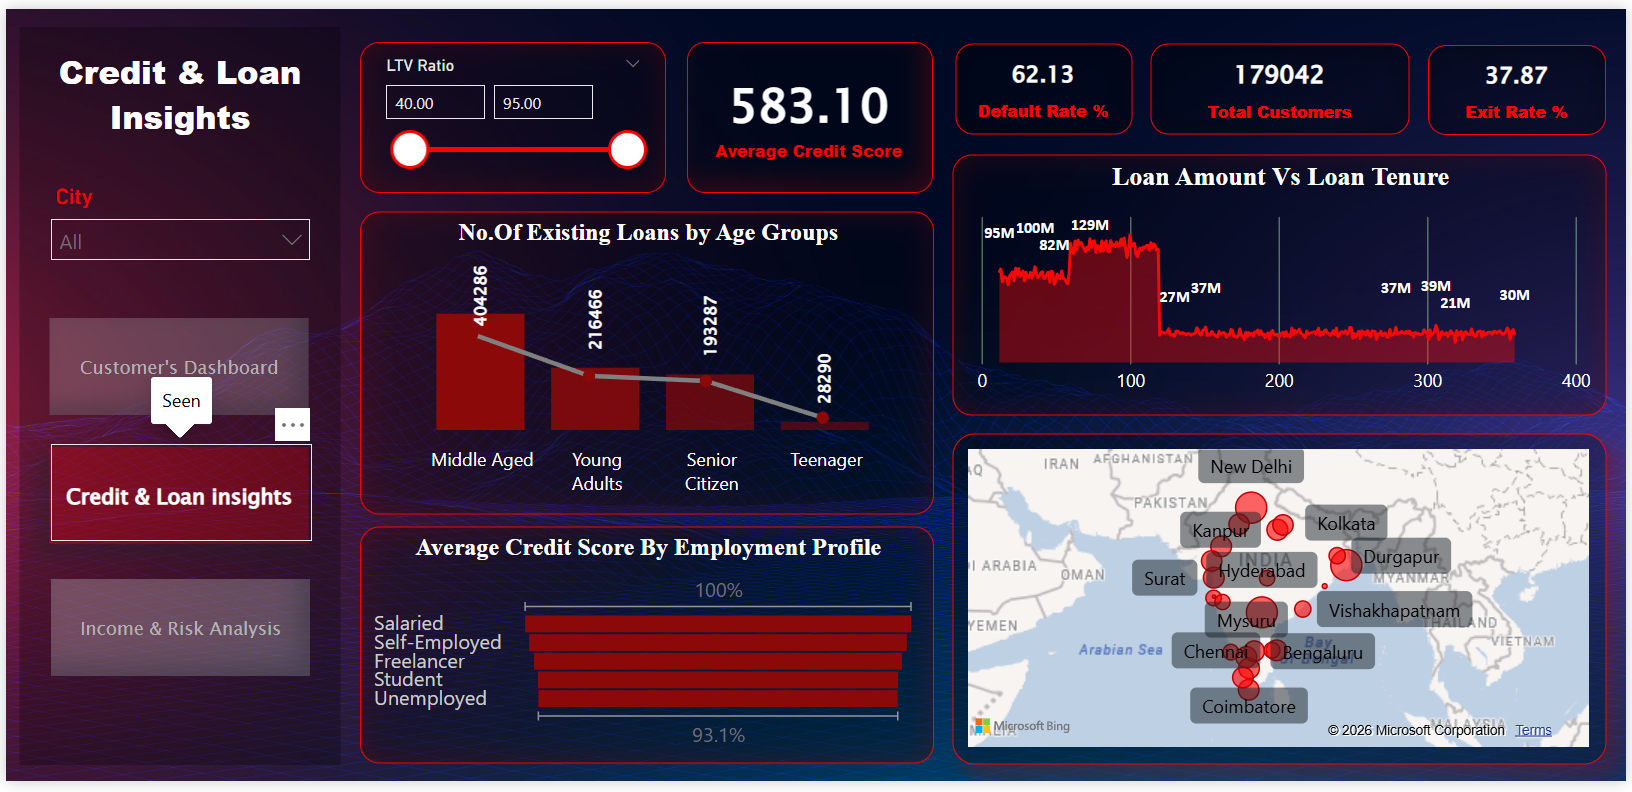

What the dashboard file says about the page in this screenshot:
{"tool":"powerbi","page":{"name":"Credit & Loan","canvas":[1080,515],"ordinal":1},"visuals":[{"type":"shape","box":[8.7,12,214.6,492.4],"z":0},{"type":"textbox","box":[19.6,21.8,192.8,74.1],"z":1000},{"type":"funnel","title":"Average Credit Score By Employment Profile","fields":{"Category":["credit_data.Employment Profile"],"Y":["Avg(Credit_Data.Credit Score)"]},"box":[236.4,345.4,382.4,158],"z":2000},{"type":"lineChart","title":"Loan Amount Vs Loan Tenure","fields":{"Category":["credit_data.Loan Tenure"],"Y":["Sum(credit_data.Loan Amount)"]},"box":[630.8,97,435.8,174.3],"z":3000},{"type":"slicer","title":"Average Credit Score By Employment Profile","fields":{"Values":["credit_data.LTV Ratio"]},"box":[236.4,21.8,203.7,101.3],"z":4000},{"type":"columnChart","title":"No.Of Existing Loans by Age Groups","fields":{"Category":["credit_data.Age Category"],"Y":["Sum(Credit_Data.Number of Existing Loans)"]},"box":[236.4,135.1,382.4,201.5],"z":5000},{"type":"card","fields":{"Values":["credit_data.Default Rate %"]},"box":[633,22.9,117.7,61],"z":6000},{"type":"card","fields":{"Values":["credit_data.Exit %"]},"box":[947.8,24,118.7,59.9],"z":7000},{"type":"card","fields":{"Values":["credit_data.Total Customers"]},"box":[762.6,22.9,173.2,61],"z":8000},{"type":"card","fields":{"Values":["Avg(credit_data.Credit Score)"]},"box":[454.3,21.8,163.4,101.3],"z":9000},{"type":"map","fields":{"Category":["Credit_Data.City"],"Size":["Sum(Credit_Data.Loan Amount)"]},"box":[630.8,283.3,435.8,221.2],"z":10000},{"type":"slicer","fields":{"Values":["Credit_Data.City"]},"box":[20.4,112.4,192.9,65.2],"z":11000},{"type":"lineChart","title":"No.Of Existing Loans by Age Groups","fields":{"Category":["credit_data.Age Category"],"Y":["Sum(Credit_Data.Number of Existing Loans)"]},"box":[274.5,174.3,306.1,108.9],"z":12000},{"type":"textbox","box":[29,206,173,65],"z":13000},{"type":"textbox","box":[29,292,173,65],"z":14000},{"type":"textbox","box":[30,380,173,65],"z":15000},{"type":"actionButton","box":[30,290,174,65],"z":15001},{"type":"actionButton","box":[28,205,174,65],"z":15002},{"type":"actionButton","box":[30,380,174,65],"z":15003}]}

Visuals, with their boxes in screenshot pixels (x1, y1, x2, y2), scaled from the page's 1080x515 canvas onto the 1632x792 screenshot:
shape: left=13, top=18, right=337, bottom=776
textbox: left=30, top=34, right=321, bottom=147
"Average Credit Score By Employment Profile" funnel: left=357, top=531, right=935, bottom=774
"Loan Amount Vs Loan Tenure" lineChart: left=953, top=149, right=1612, bottom=417
"Average Credit Score By Employment Profile" slicer: left=357, top=34, right=665, bottom=189
"No.Of Existing Loans by Age Groups" columnChart: left=357, top=208, right=935, bottom=518
card - credit_data.Default Rate %: left=957, top=35, right=1134, bottom=129
card - credit_data.Exit %: left=1432, top=37, right=1612, bottom=129
card - credit_data.Total Customers: left=1152, top=35, right=1414, bottom=129
card - Avg(credit_data.Credit Score): left=686, top=34, right=933, bottom=189
map - Credit_Data.City x Sum(Credit_Data.Loan Amount): left=953, top=436, right=1612, bottom=776
slicer - Credit_Data.City: left=31, top=173, right=322, bottom=273
"No.Of Existing Loans by Age Groups" lineChart: left=415, top=268, right=877, bottom=436
textbox: left=44, top=317, right=305, bottom=417
textbox: left=44, top=449, right=305, bottom=549
textbox: left=45, top=584, right=307, bottom=684
actionButton: left=45, top=446, right=308, bottom=546
actionButton: left=42, top=315, right=305, bottom=415
actionButton: left=45, top=584, right=308, bottom=684
